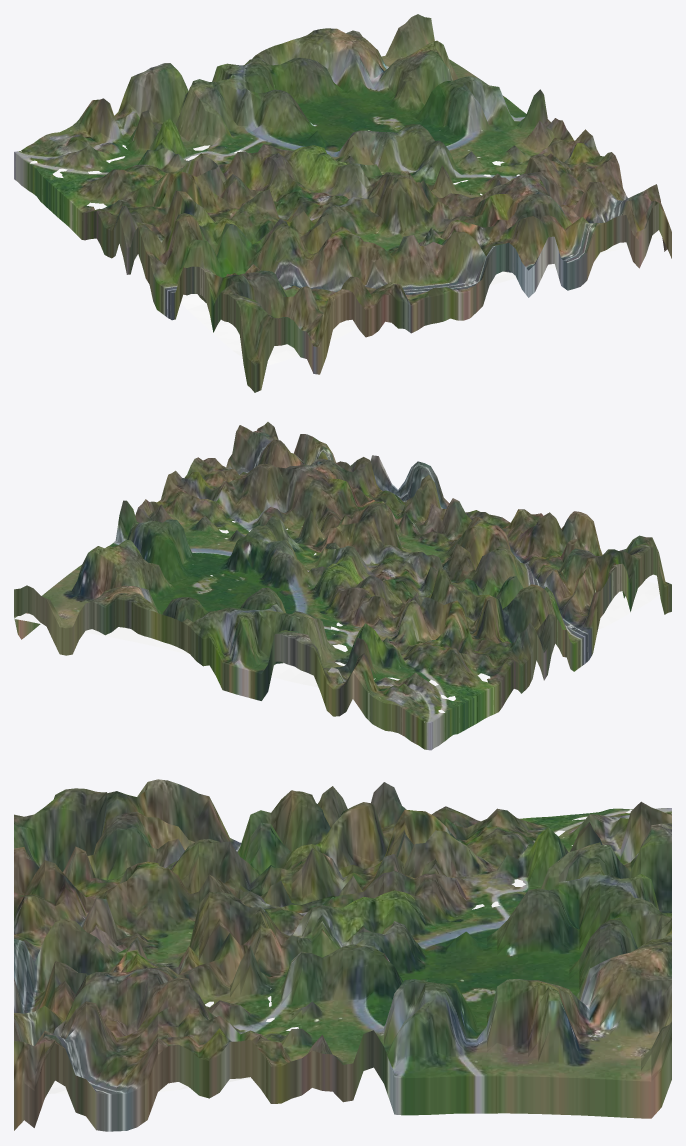
3 renders of one model, top to bottom at view 1: azimuth 30°, elevation 25°; view 2: azimuth 150°, elevation 25°; view 3: azimuth 270°, elevation 25°, orthographic. The views are drawn at different scales.
Visible parts, largest first — view 1: surface, ground; view 2: surface, ground; view 3: surface, ground.
Boxes of the visible parts, x1,y1,x2,y2 form: surface: (14, 14, 671, 392); ground: (21, 145, 661, 365); surface: (14, 422, 671, 750); ground: (14, 521, 659, 722); surface: (14, 779, 671, 1131); ground: (47, 809, 671, 1094).
Size of the model in its own units: 256 by 68.91 by 256.
2 materials, 1 textured.
